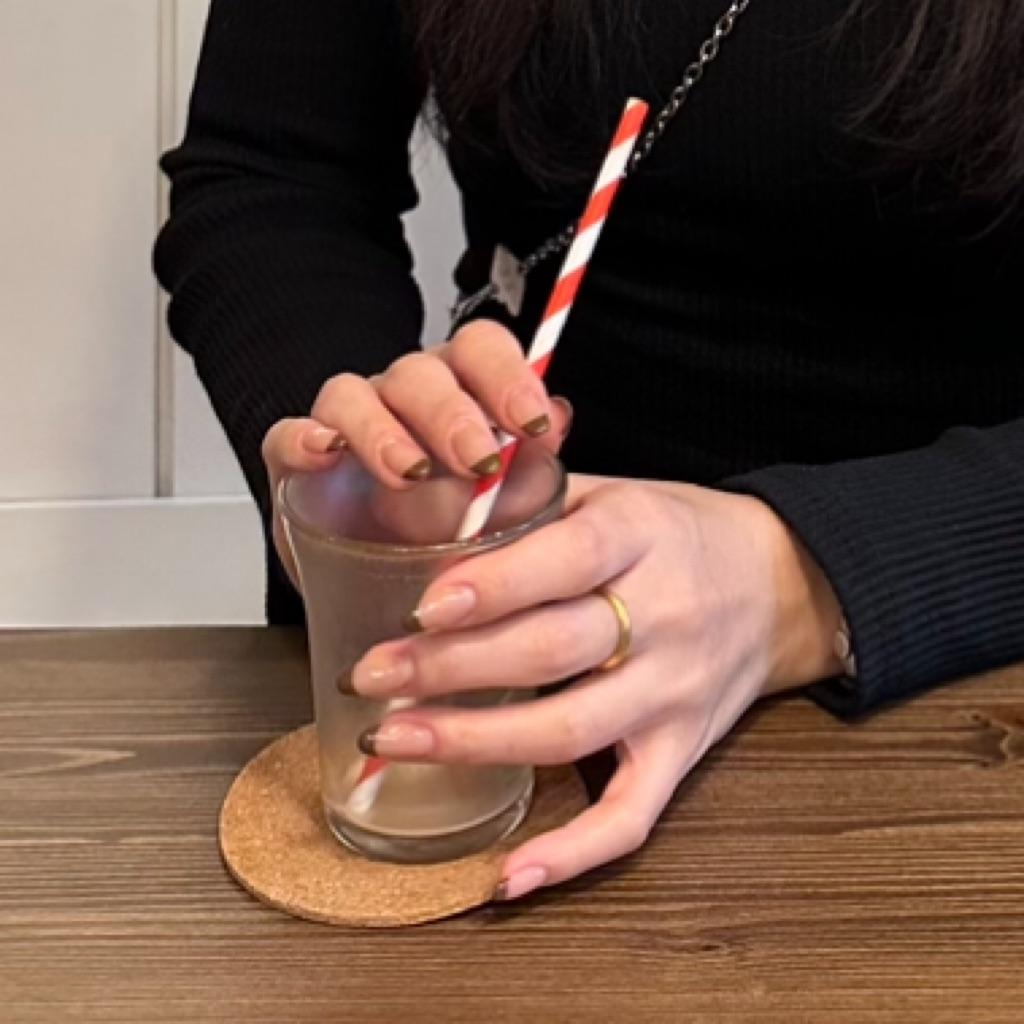nail: (403, 581, 477, 632), (350, 644, 414, 698), (357, 719, 435, 758), (451, 424, 501, 476), (494, 863, 548, 901), (300, 424, 345, 454), (468, 451, 501, 476), (518, 413, 550, 437), (401, 456, 431, 481)
